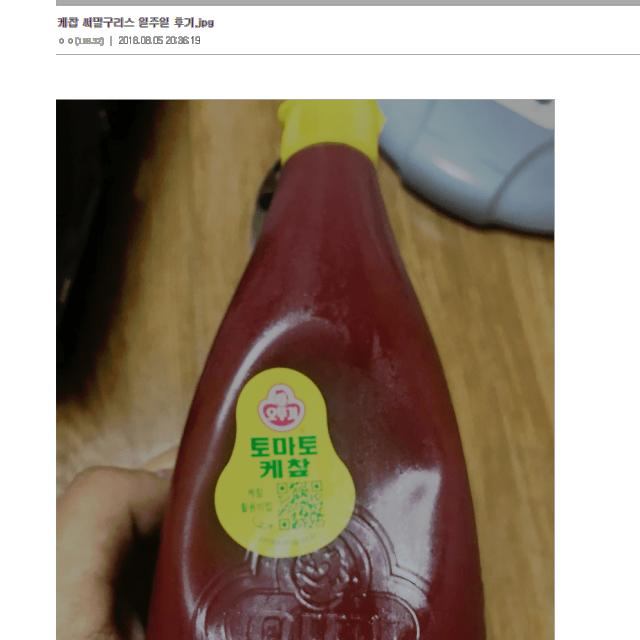ketchup: (147, 98, 492, 640)
